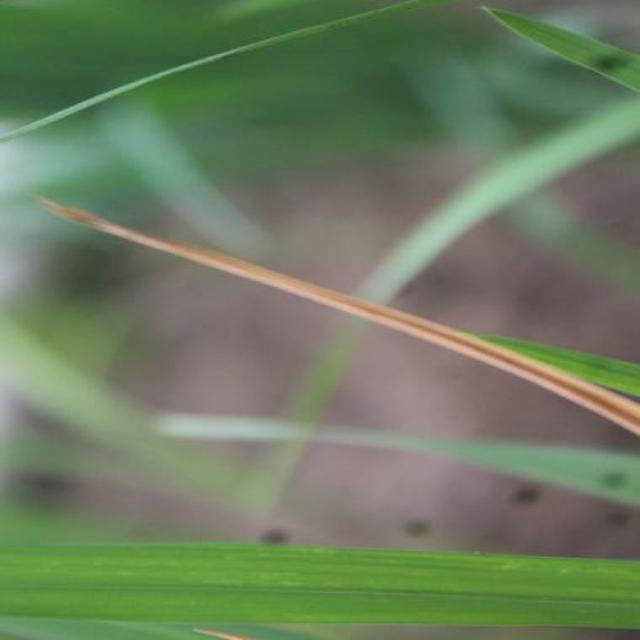Tungro: (44, 190, 640, 441)
